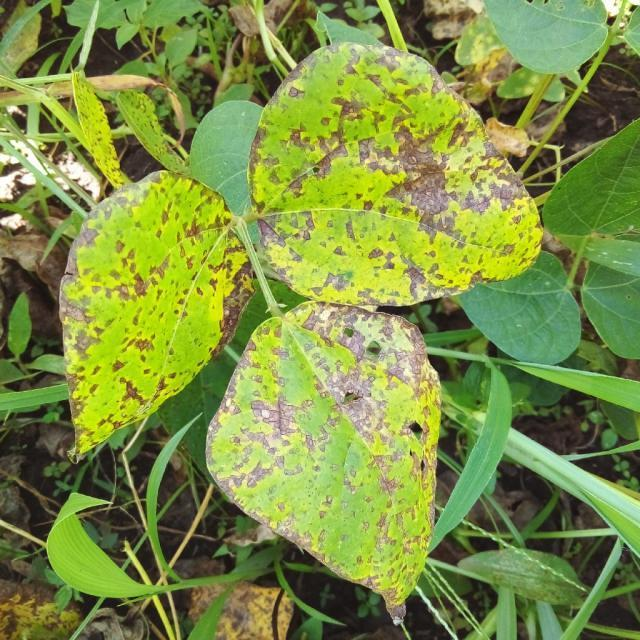mozaik: (41, 46, 417, 433)
